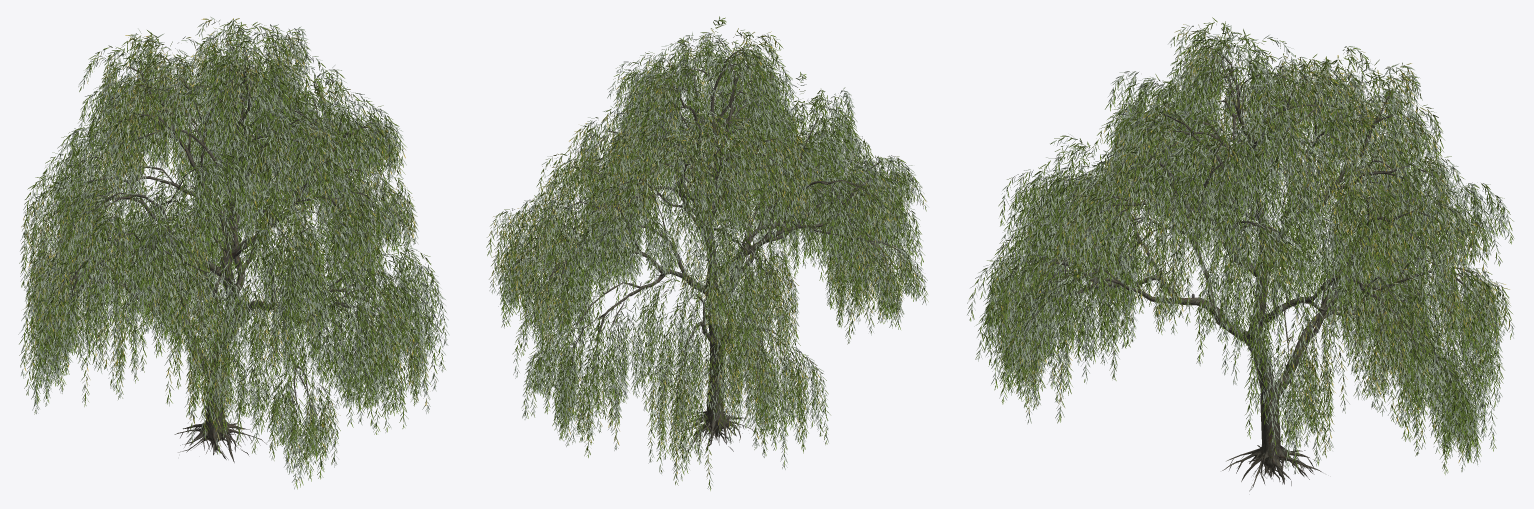
File: salix-babylonica-ld-s43.glb
3 renders of one model, left to right at view 1: azimuth 30°, elevation 25°; view 2: azimuth 150°, elevation 25°; view 3: azimuth 270°, elevation 25°, orthographic. The views are drawn at different scales.
Visible parts, largest first — view 1: ForestPlantCatalog_salix-babylonica-ld-s43; view 2: ForestPlantCatalog_salix-babylonica-ld-s43; view 3: ForestPlantCatalog_salix-babylonica-ld-s43.
Boxes of the visible parts, bbox=[...] form: ForestPlantCatalog_salix-babylonica-ld-s43: bbox=[18, 16, 449, 489]; ForestPlantCatalog_salix-babylonica-ld-s43: bbox=[486, 16, 928, 490]; ForestPlantCatalog_salix-babylonica-ld-s43: bbox=[967, 17, 1514, 491].
Size of the model in its own units: 12.82 by 13.5 by 14.71.
11 materials, 11 textured.
